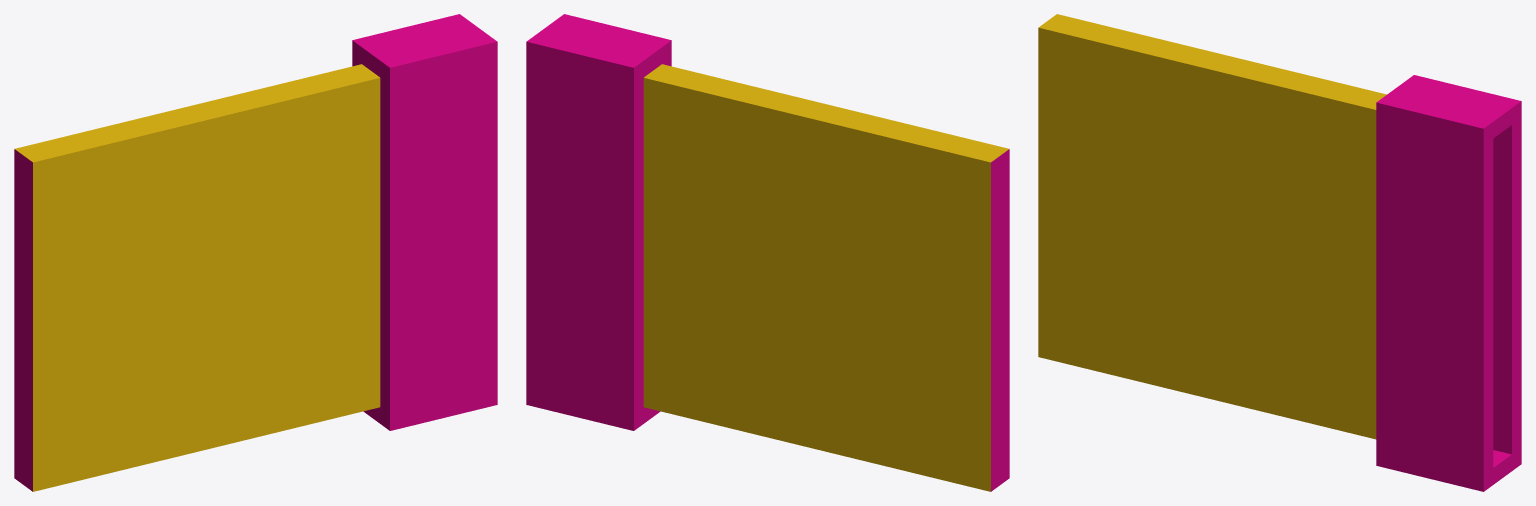
The model's file is door.fbx.
3 views of the same model, side by side, from view 1: azimuth 30°, elevation 25°; view 2: azimuth 150°, elevation 25°; view 3: azimuth 330°, elevation 25° (orthographic).
Visible parts, largest first — view 1: Cube, Cube_cell.001, Cube.001, Cube_cell.002; view 2: Cube, Cube.001, Cube_cell, Cube_cell.001; view 3: Cube.001, Cube, Cube_cell.001, Cube_cell.002.
Boxes of the visible parts, x1=… form: Cube: x1=14, y1=71, x2=380, y2=491; Cube_cell.001: x1=15, y1=69, x2=359, y2=328; Cube.001: x1=352, y1=14, x2=497, y2=430; Cube_cell.002: x1=237, y1=64, x2=380, y2=441; Cube: x1=643, y1=69, x2=1009, y2=491; Cube.001: x1=526, y1=14, x2=671, y2=430; Cube_cell: x1=786, y1=275, x2=1004, y2=491; Cube_cell.001: x1=667, y1=69, x2=1008, y2=324; Cube.001: x1=1376, y1=75, x2=1521, y2=491; Cube: x1=1038, y1=59, x2=1386, y2=439; Cube_cell.001: x1=1038, y1=14, x2=1380, y2=243; Cube_cell.002: x1=1243, y1=93, x2=1386, y2=438.
Bounding box in the file's own units: 847 × 646 × 122.
